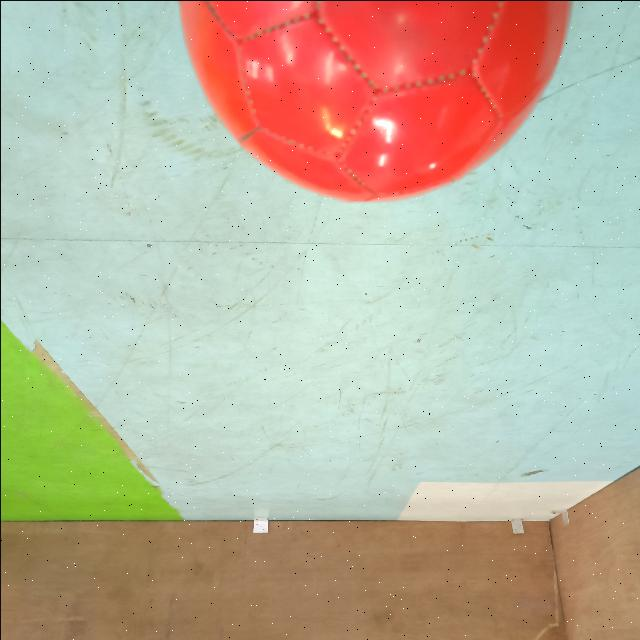R: (172, 1, 576, 208)
